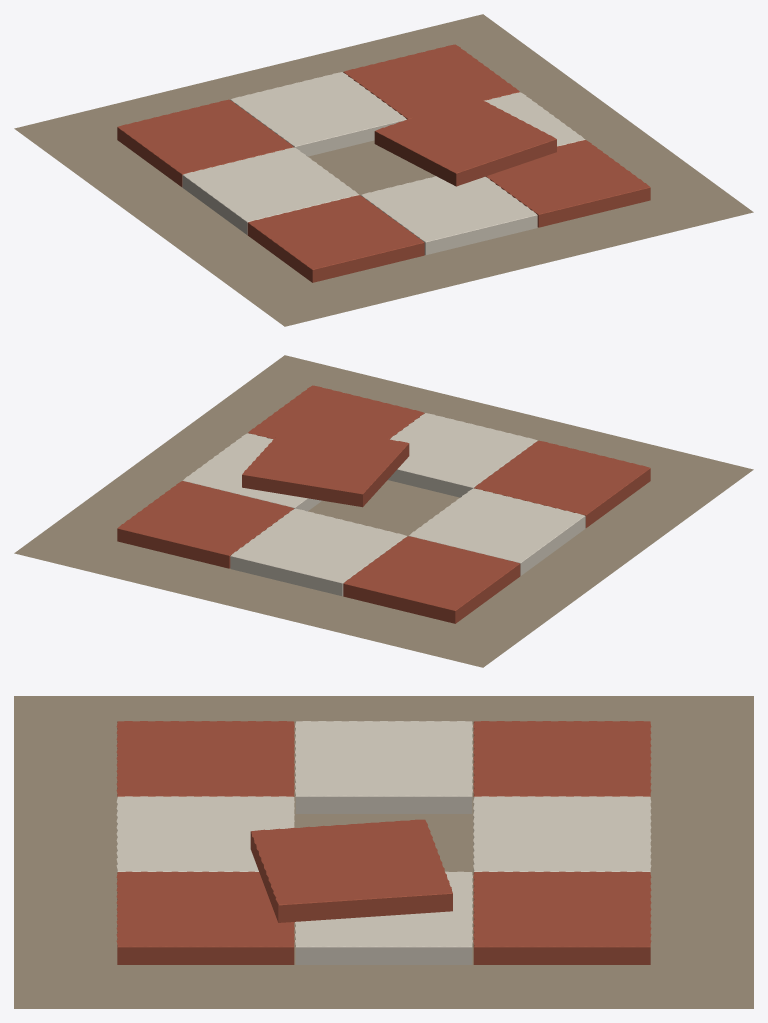
Rendered from terilgan.glb.
3 views of the same model, one above another, from view 1: azimuth 30°, elevation 25°; view 2: azimuth 150°, elevation 25°; view 3: azimuth 270°, elevation 25° (orthographic). The views are drawn at different scales.
Visible parts, largest first — view 1: qum, t.004, t, t.007, t.001, t.003, t.006, t.002, t.008, t.005; view 2: qum, t.006, t.004, t.007, t.008, t.003, t, t.001, t.002, t.005; view 3: qum, t.004, t.008, t.003, t.002, t.007, t, t.006, t.001, t.005.
Part boxes in pixels (x1,y1,x2,y2): qum: (14,14,753,326); t.004: (374,96,556,186); t: (247,195,424,282); t.007: (230,72,406,156); t.001: (360,176,537,255); t.003: (182,147,358,234); t.006: (117,99,293,186); t.002: (485,140,650,227); t.008: (343,44,519,119); t.005: (484,92,585,146); qum: (14,355,753,667); t.006: (343,536,520,623); t.004: (242,423,409,507); t.007: (230,508,407,596); t.008: (117,481,293,568); t.003: (409,488,585,575); t: (474,440,650,527); t.001: (388,413,537,497); t.002: (248,385,424,439); t.005: (182,433,321,511); qum: (14,696,753,1008); t.004: (250,819,452,922); t.008: (473,871,651,964); t.003: (295,721,472,813); t.002: (116,871,294,964); t.007: (473,796,651,872); t: (116,721,294,796); t.006: (473,721,651,796); t.001: (116,796,294,872); t.005: (295,871,472,964).
Bounding box in the file's own units: 1.66 × 0.092 × 1.66.
